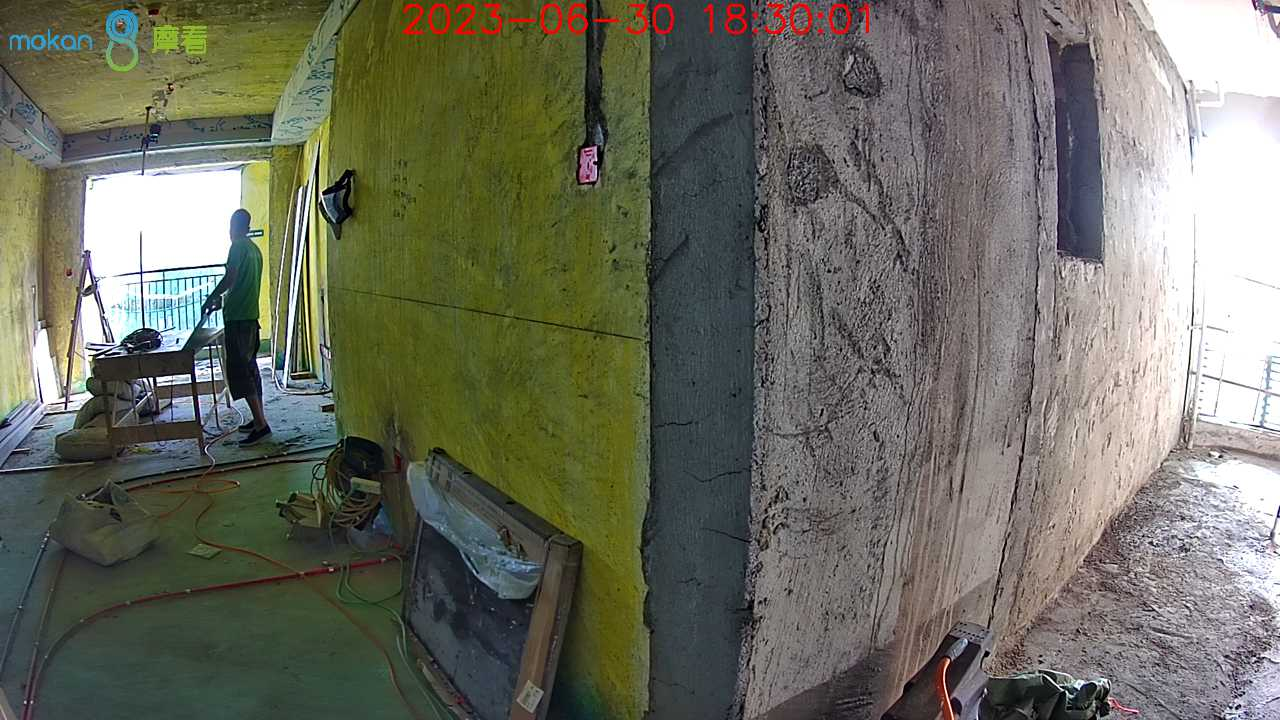people: (217, 212, 272, 445)
window: (83, 179, 241, 355)
